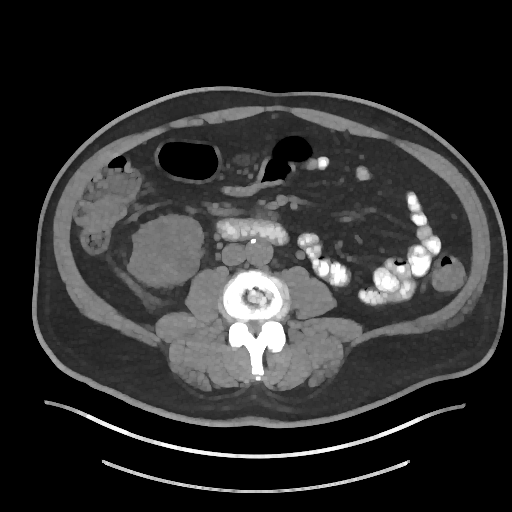Lesion: (129, 217, 201, 283)
